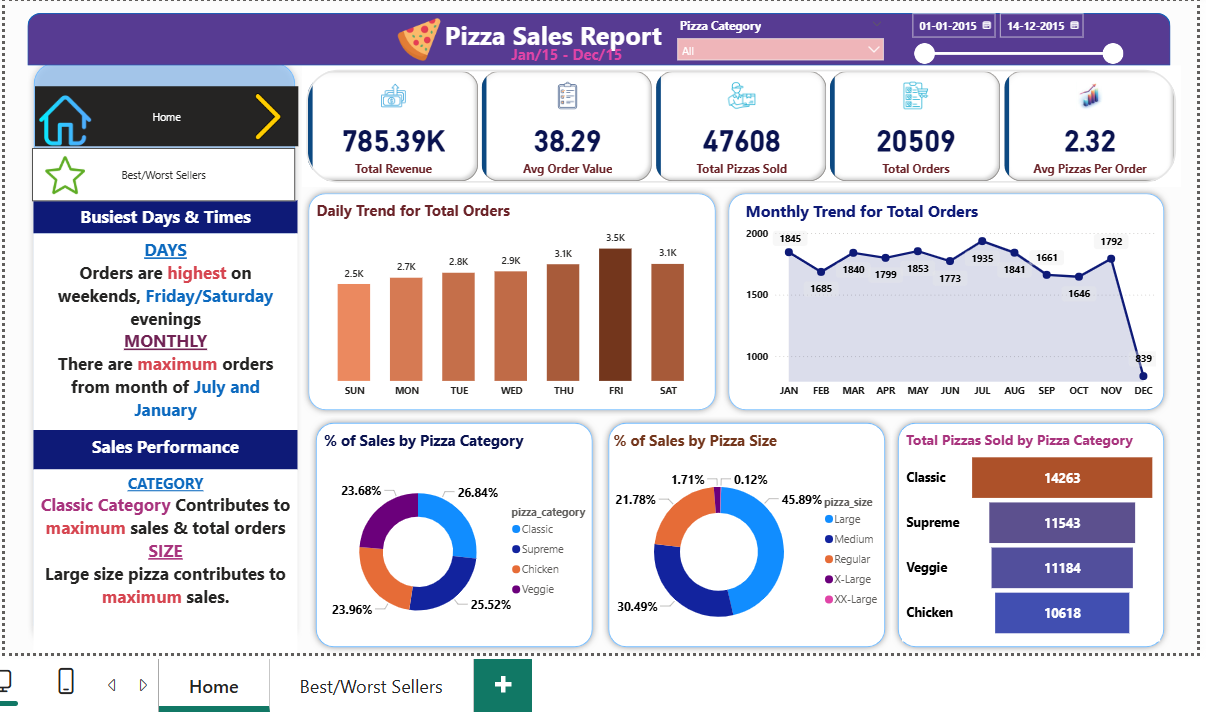

This screenshot's page, from the dashboard's own definition file:
{"tool":"powerbi","page":{"name":"Home","canvas":[1500,820],"ordinal":0},"visuals":[{"type":"shape","box":[28.2,69.3,344.5,749.6],"z":0},{"type":"textbox","box":[35.8,588.6,332,232],"z":1000},{"type":"textbox","box":[35.8,250.9,332,41.5],"z":2000},{"type":"cardVisual","fields":{"Data":["pizza_sales.Total Revenue","pizza_sales.Avg Order Value","pizza_sales.Total Pizzas Sold","pizza_sales.Total Orders","pizza_sales.Avg Pizzas Per Order"]},"box":[373.5,81.1,1105.5,152.8],"z":3000},{"type":"shape","box":[28.3,15.1,1437.5,66],"z":4000},{"type":"textbox","box":[543.3,15.1,292.4,56.6],"z":5000},{"type":"textbox","box":[590.5,49.1,232,54.7],"z":6000},{"type":"image","box":[473.5,15.1,94.3,66],"z":7000},{"type":"shape","box":[373.5,233.9,528.2,288.6],"z":8000},{"type":"columnChart","title":"Daily Trend for Total Orders","fields":{"Category":["pizza_sales.Order Day"],"Y":["pizza_sales.Total Orders"]},"box":[386.7,250.9,499.9,256.6],"z":9000},{"type":"shape","box":[901.8,233.9,564.1,288.6],"z":10000},{"type":"areaChart","title":"Monthly Trend for Total Orders","fields":{"Category":["pizza_sales.Order Month"],"Y":["pizza_sales.Total Orders"]},"box":[926.3,250.9,526.3,256.6],"z":11000},{"type":"shape","box":[383,522.6,364.1,298.1],"z":12000},{"type":"shape","box":[750.8,522.6,364.1,298.1],"z":13000},{"type":"shape","box":[1115,522.6,350.9,298.1],"z":14000},{"type":"donutChart","title":"% of Sales by Pizza Category","fields":{"Category":["pizza_sales.pizza_category"],"Y":["pizza_sales.Total Revenue"]},"box":[396.2,539.6,354.7,281.1],"z":15000},{"type":"donutChart","title":"% of Sales by Pizza Size","fields":{"Y":["pizza_sales.Total Revenue"],"Category":["pizza_sales.pizza_size"]},"box":[760.3,539.6,354.7,281.1],"z":16000},{"type":"funnel","title":"Total Pizzas Sold by Pizza Category","fields":{"Category":["pizza_sales.pizza_category"],"Y":["pizza_sales.Total Pizzas Sold"]},"box":[1128.2,539.6,324.5,266],"z":17000},{"type":"textbox","box":[35.8,292.4,332,247.1],"z":18000},{"type":"textbox","box":[35.8,539.6,332,49.1],"z":19000},{"type":"slicer","fields":{"Values":["pizza_sales.pizza_category"]},"box":[835.7,15.1,279.2,62.3],"z":20000},{"type":"slicer","fields":{"Values":["pizza_sales.order_date"]},"box":[1128.2,5.7,298.1,88.7],"z":21000},{"type":"pageNavigator","box":[36.8,108.3,331.5,75.8],"z":22000},{"type":"pageNavigator","box":[34.7,184.2,331.5,67.2],"z":23000},{"type":"image","box":[296.8,108.3,69.3,75.8],"z":24000},{"type":"image","box":[36.8,95.3,75.8,108.3],"z":25000},{"type":"image","box":[45.5,188.5,60.7,60.7],"z":26000}]}

Visuals, with their boxes on the page's 1500x820 design canvas (x1, y1, x2, y2). These are canvas units, not pixel positions in the 1206x712 screenshot, which may show the page scaled, cropped or inside an application window:
shape: [x1=28, y1=69, x2=373, y2=819]
textbox: [x1=36, y1=589, x2=368, y2=821]
textbox: [x1=36, y1=251, x2=368, y2=292]
cardVisual - pizza_sales.Total Revenue x pizza_sales.Avg Order Value: [x1=374, y1=81, x2=1479, y2=234]
shape: [x1=28, y1=15, x2=1466, y2=81]
textbox: [x1=543, y1=15, x2=836, y2=72]
textbox: [x1=590, y1=49, x2=822, y2=104]
image: [x1=474, y1=15, x2=568, y2=81]
shape: [x1=374, y1=234, x2=902, y2=522]
"Daily Trend for Total Orders" columnChart: [x1=387, y1=251, x2=887, y2=508]
shape: [x1=902, y1=234, x2=1466, y2=522]
"Monthly Trend for Total Orders" areaChart: [x1=926, y1=251, x2=1453, y2=508]
shape: [x1=383, y1=523, x2=747, y2=821]
shape: [x1=751, y1=523, x2=1115, y2=821]
shape: [x1=1115, y1=523, x2=1466, y2=821]
"% of Sales by Pizza Category" donutChart: [x1=396, y1=540, x2=751, y2=821]
"% of Sales by Pizza Size" donutChart: [x1=760, y1=540, x2=1115, y2=821]
"Total Pizzas Sold by Pizza Category" funnel: [x1=1128, y1=540, x2=1453, y2=806]
textbox: [x1=36, y1=292, x2=368, y2=540]
textbox: [x1=36, y1=540, x2=368, y2=589]
slicer - pizza_sales.pizza_category: [x1=836, y1=15, x2=1115, y2=77]
slicer - pizza_sales.order_date: [x1=1128, y1=6, x2=1426, y2=94]
pageNavigator: [x1=37, y1=108, x2=368, y2=184]
pageNavigator: [x1=35, y1=184, x2=366, y2=251]
image: [x1=297, y1=108, x2=366, y2=184]
image: [x1=37, y1=95, x2=113, y2=204]
image: [x1=46, y1=188, x2=106, y2=249]
